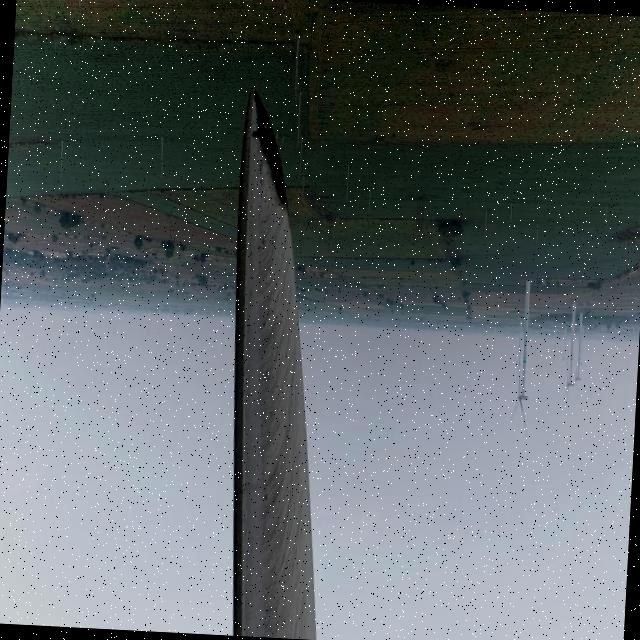Dirt: (242, 86, 319, 639)
Oil LEAKAGE: (251, 90, 299, 212)
Pin Hole: (253, 129, 264, 139)
